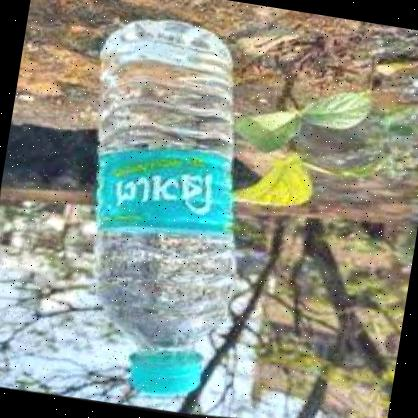bottle: (49, 6, 276, 407)
cap: (126, 346, 208, 402)
label: (88, 137, 244, 244)
